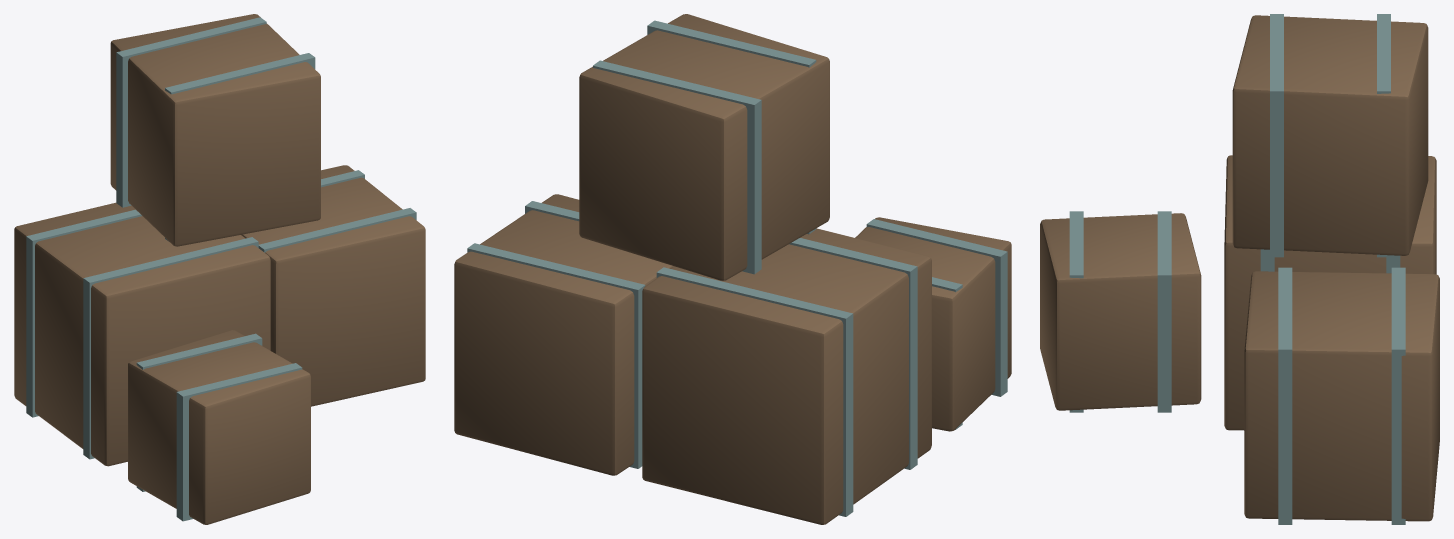
File: crate_stack.glb
The picture shows the model from 3 angles, left to right: view 1: azimuth 30°, elevation 25°; view 2: azimuth 150°, elevation 25°; view 3: azimuth 270°, elevation 25°; orthographic projection. The views are drawn at different scales.
Parts seen in each view (by area): view 1: crate_stack; view 2: crate_stack; view 3: crate_stack.
Boxes of the visible parts, x1,y1,x2,y2 form: crate_stack: (14, 14, 425, 524); crate_stack: (454, 14, 1011, 524); crate_stack: (1040, 14, 1439, 524).
Size of what is drawn, in the model's own units: 1.83 by 1.79 by 1.71.
